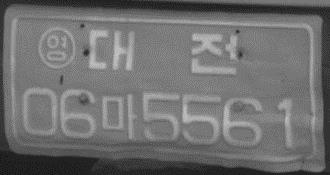0: (20, 85, 57, 137)
1: (274, 95, 295, 152)
5: (181, 91, 222, 147), (141, 89, 181, 145)
6: (222, 95, 262, 150), (59, 87, 96, 141)
대전_D: (86, 26, 238, 76)
마: (100, 92, 138, 143)
영: (37, 26, 76, 69)
